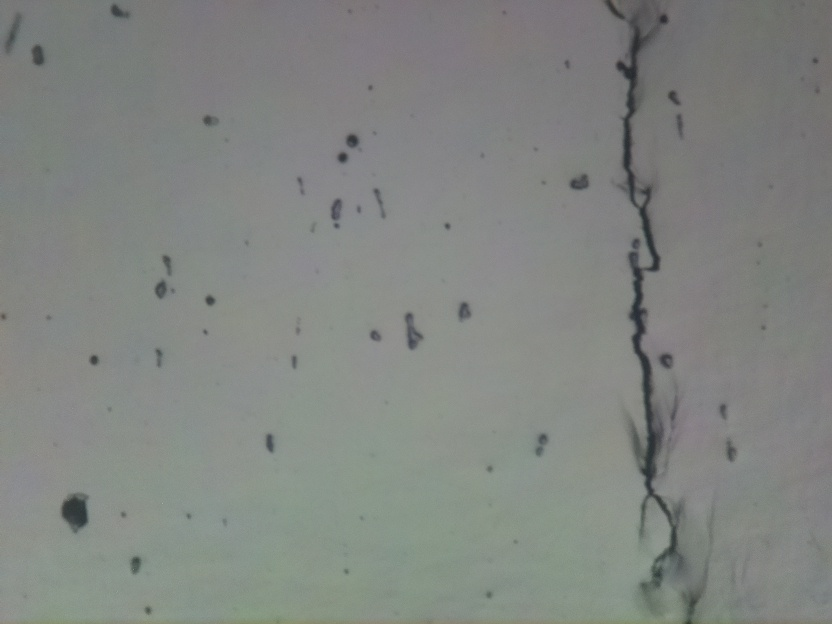crack: (609, 0, 683, 578), (677, 578, 706, 624)
